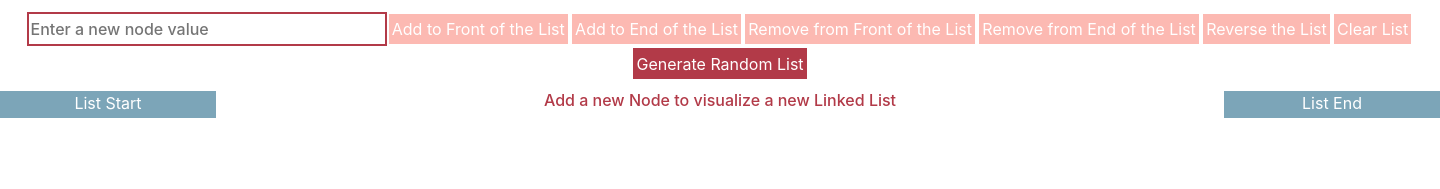
Test: LinkedListVisualizer tests › LinkedListVisualizer generateRandomLinkedList correctly generates a list
Check: the heading "Add a new Node to visualize a new Linked List" is shown, box x1=544 y1=91 x2=896 y2=110
What coordinates should you click on to do the following:
click the button "Generate Random List"
I would click on:
 (720, 64)
Its box is x1=633 y1=48 x2=807 y2=79.
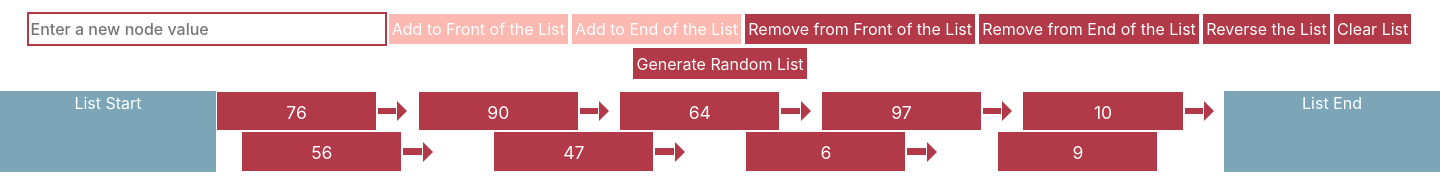
Check: the heading "Add a new Node to visualize a new Linked List" is gone
